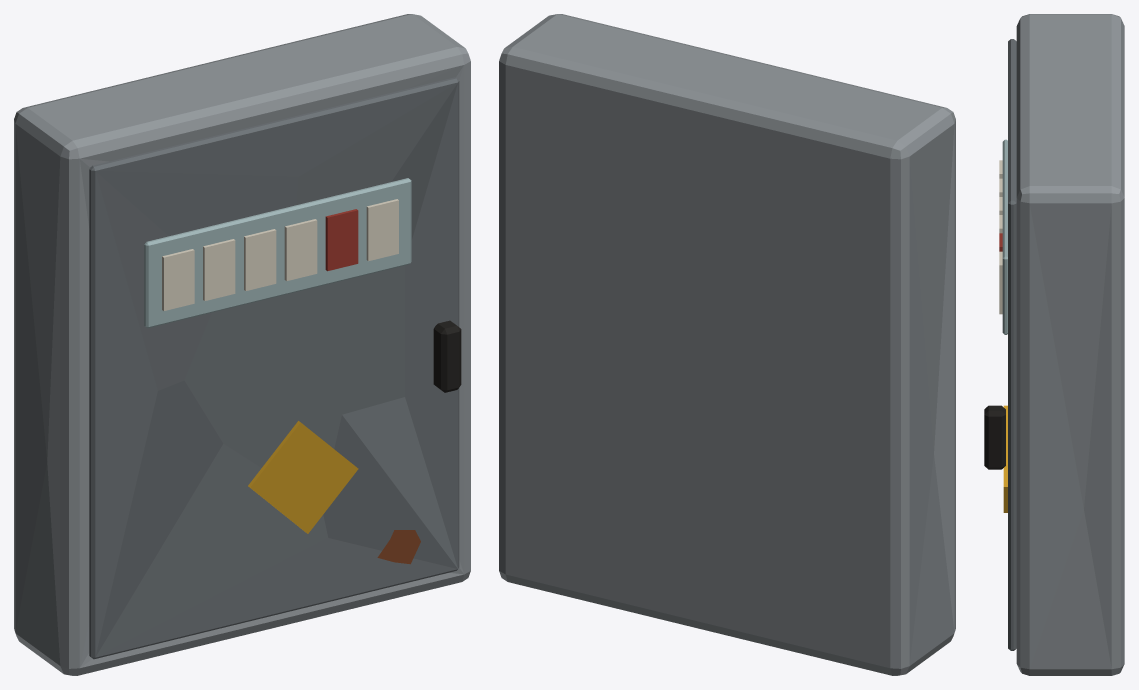
File: fuse_box_bytovoy_idle.glb
3 renders of one model, left to right at view 1: azimuth 30°, elevation 25°; view 2: azimuth 150°, elevation 25°; view 3: azimuth 270°, elevation 25°, orthographic. The views are drawn at different scales.
Parts seen in each view (by area): view 1: fuse_box_bytovoy_idle; view 2: fuse_box_bytovoy_idle; view 3: fuse_box_bytovoy_idle.
Boxes of the visible parts, box(x1,y1,x2,y2) form: fuse_box_bytovoy_idle: box(14, 14, 470, 675); fuse_box_bytovoy_idle: box(499, 14, 955, 675); fuse_box_bytovoy_idle: box(984, 14, 1124, 675).
Bounding box in the file's own units: 0.4 × 0.5 × 0.13.
Materials: 1 (1 with a texture image).
